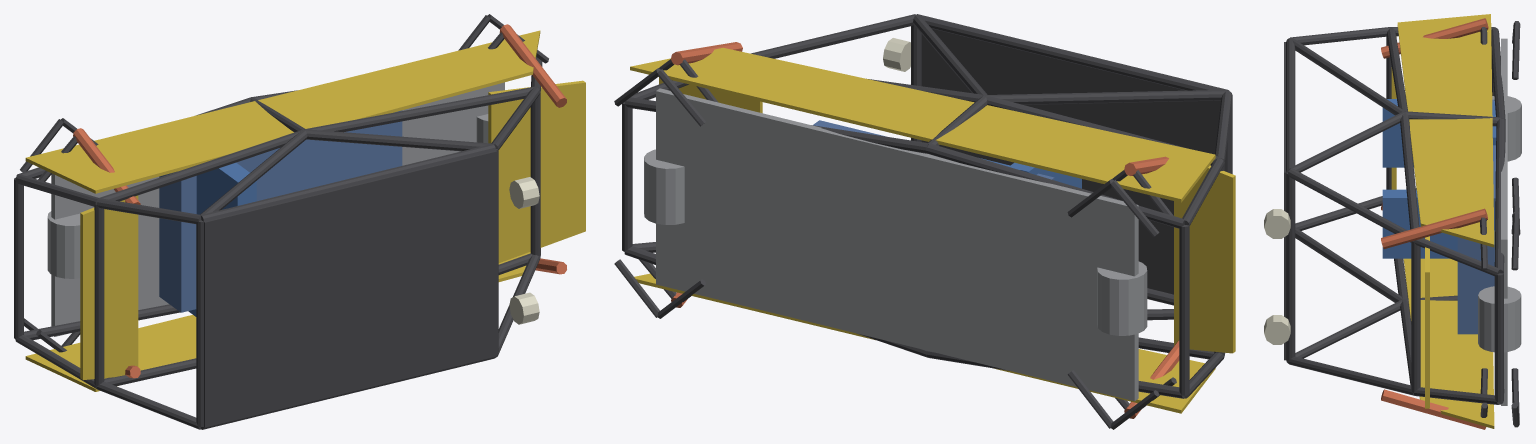
File: buggy_body.glb
The picture shows the model from 3 angles, left to right: view 1: azimuth 30°, elevation 25°; view 2: azimuth 150°, elevation 25°; view 3: azimuth 270°, elevation 25°; orthographic projection. The views are drawn at different scales.
Visible parts, largest first — view 1: part39, part32, part31, part40, part38, part0, part35, part3, part8, part42, part9, part29 (+19 smaller); view 2: part0, part32, part39, part38, part3, part42, part35, part41, part12, part30, part6, part2 (+15 smaller); view 3: part32, part35, part40, part41, part37, part27, part0, part26, part49, part3, part25, part14 (+31 smaller).
Boxes of the visible parts, x1,y1,x2,y2 form: part39: (204, 150, 497, 427); part32: (25, 30, 540, 193); part31: (488, 80, 585, 262); part40: (159, 110, 402, 312); part38: (80, 195, 138, 380); part0: (51, 82, 504, 336); part35: (25, 252, 530, 391); part3: (201, 144, 495, 221); part8: (305, 86, 535, 132); part42: (47, 211, 80, 278); part9: (98, 129, 302, 201); part29: (94, 204, 104, 386); part0: (656, 88, 1138, 401); part32: (630, 47, 1215, 202); part39: (921, 28, 1220, 294); part38: (1174, 165, 1235, 353); part3: (916, 14, 1229, 90); part42: (1097, 261, 1147, 335); part35: (634, 273, 1215, 413); part41: (644, 149, 684, 224); part12: (985, 89, 1227, 104); part30: (1179, 225, 1189, 395); part6: (926, 144, 1184, 228); part2: (751, 14, 915, 58); part32: (1397, 14, 1494, 247); part35: (1403, 258, 1494, 428); part40: (1457, 99, 1495, 334); part41: (1478, 286, 1521, 352); part37: (1382, 189, 1457, 258); part27: (1286, 172, 1295, 361); part0: (1501, 38, 1507, 405); part26: (1411, 241, 1420, 392); part49: (1381, 208, 1487, 249); part3: (1286, 38, 1295, 172); part25: (1494, 273, 1503, 402); part14: (1287, 356, 1414, 395).
Size of the model in its own units: 3.38 by 1.45 by 1.55.
